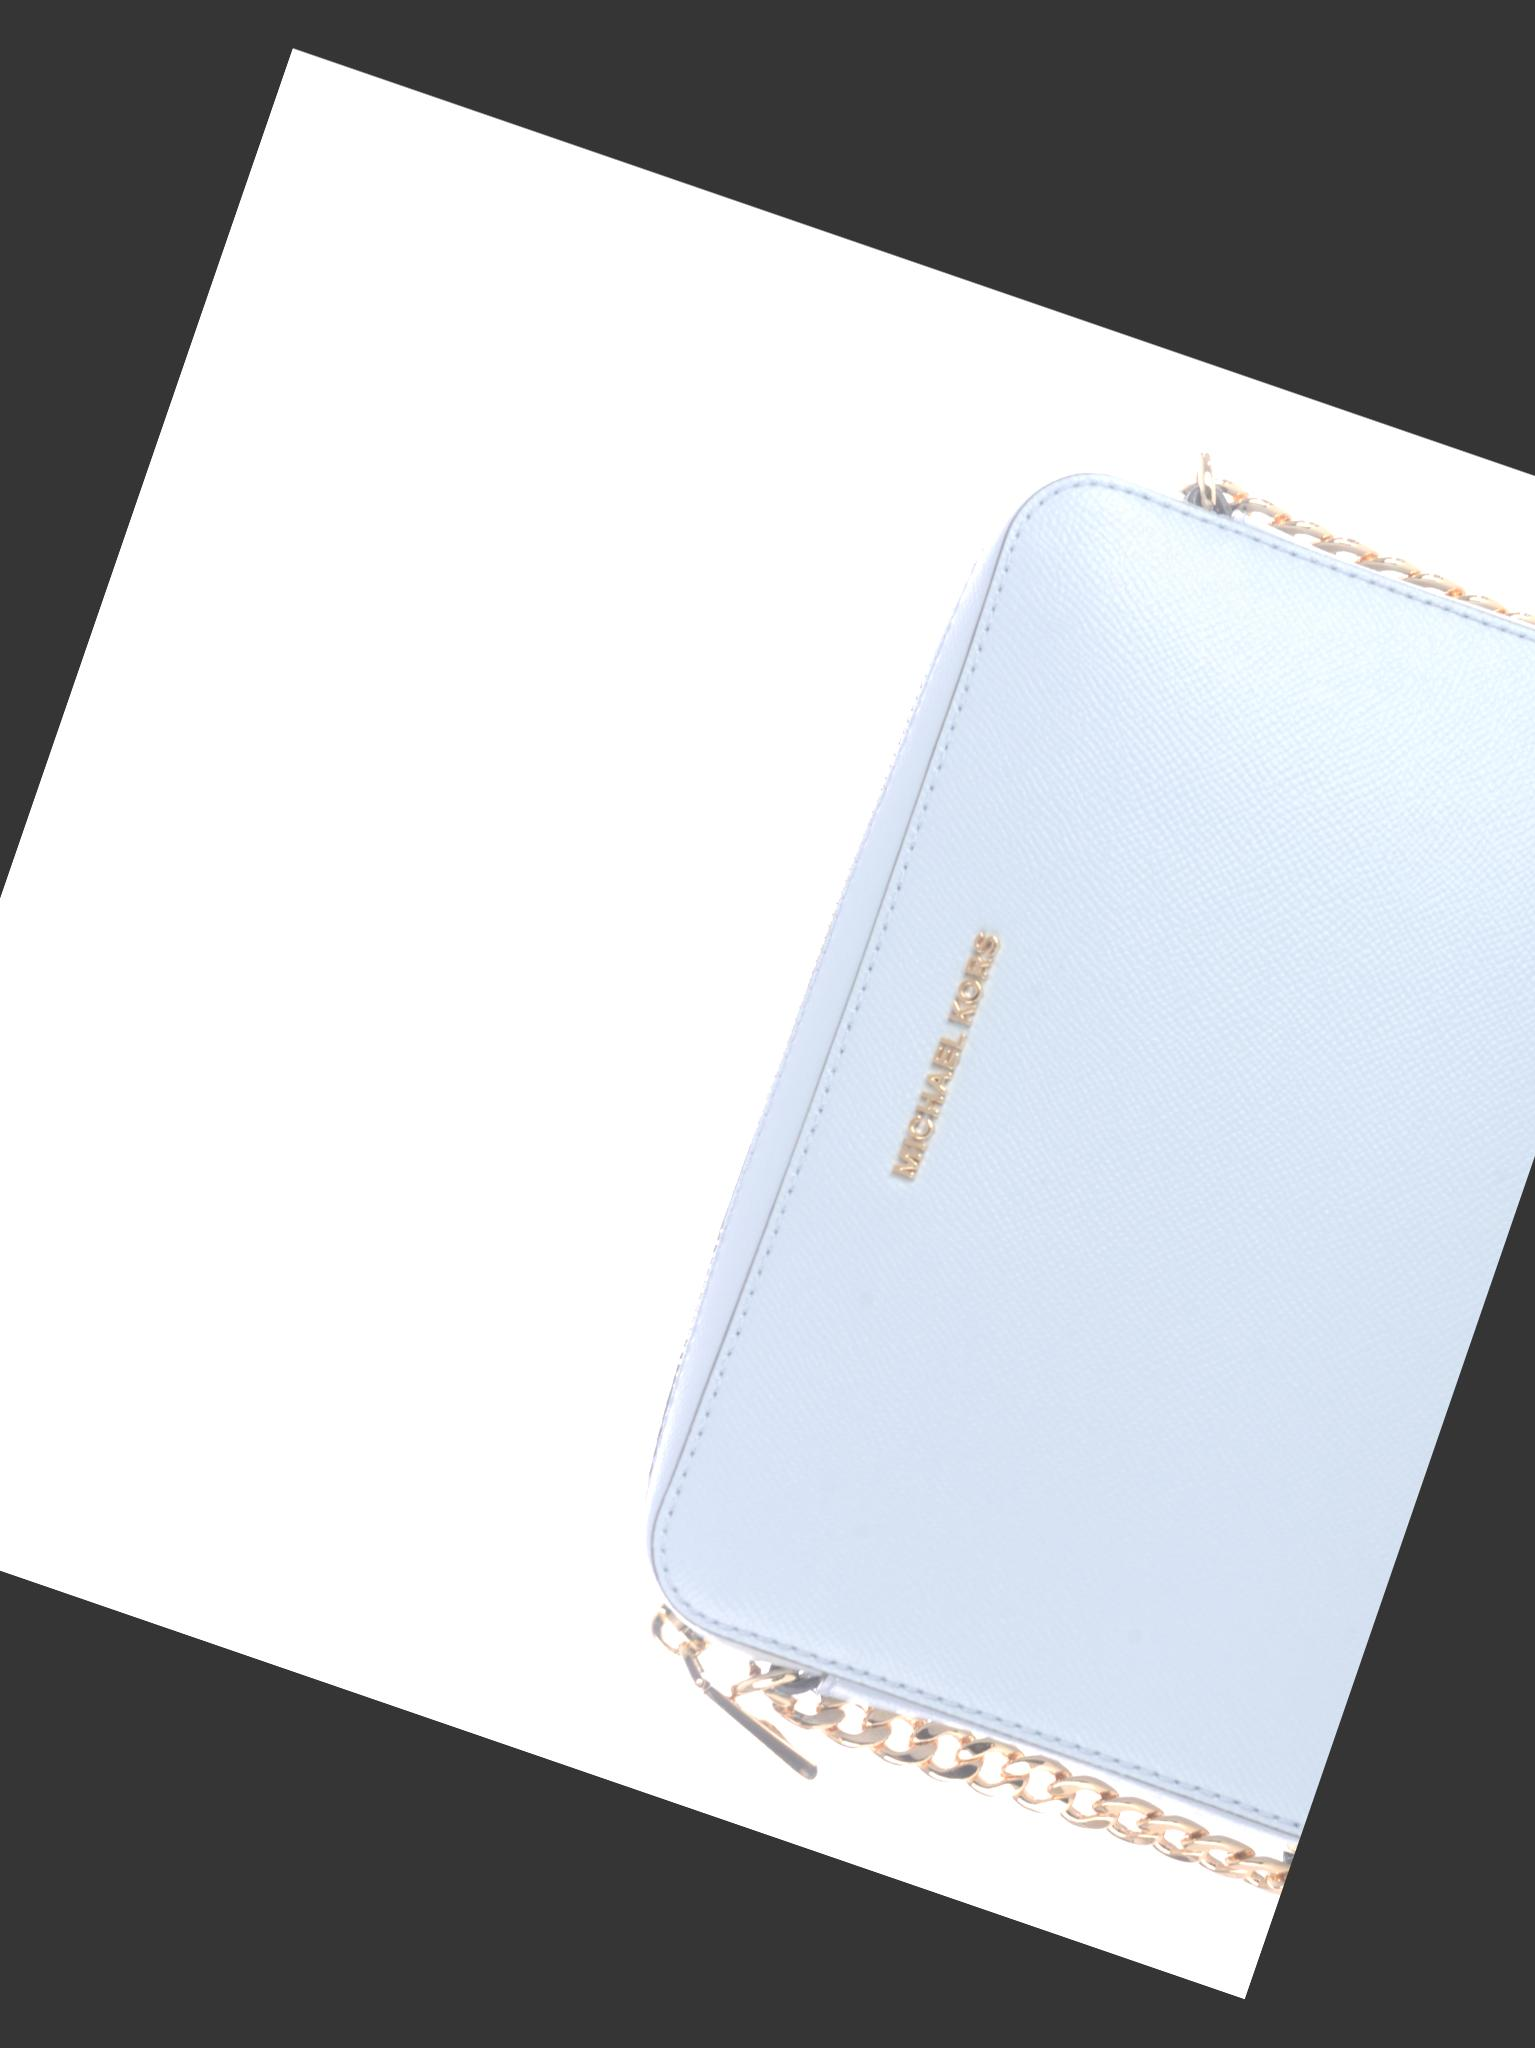MICHAEL-KORS: (888, 927, 1000, 1180)
